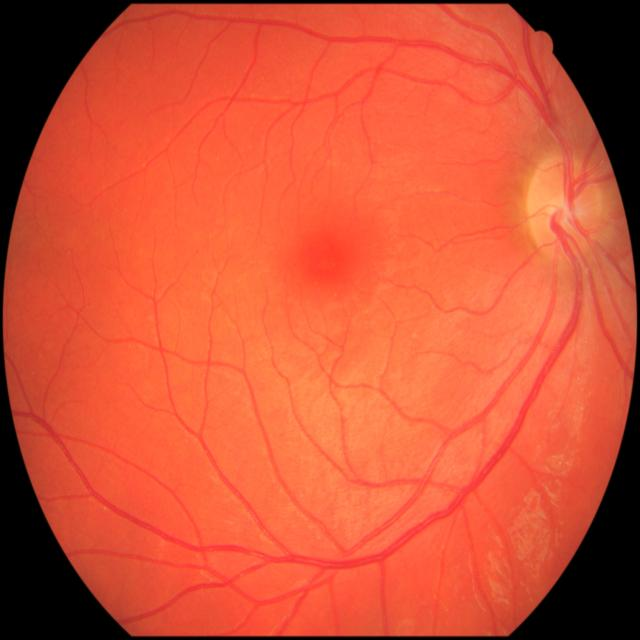OC: (548, 198, 571, 226)
OD: (527, 157, 603, 257)
